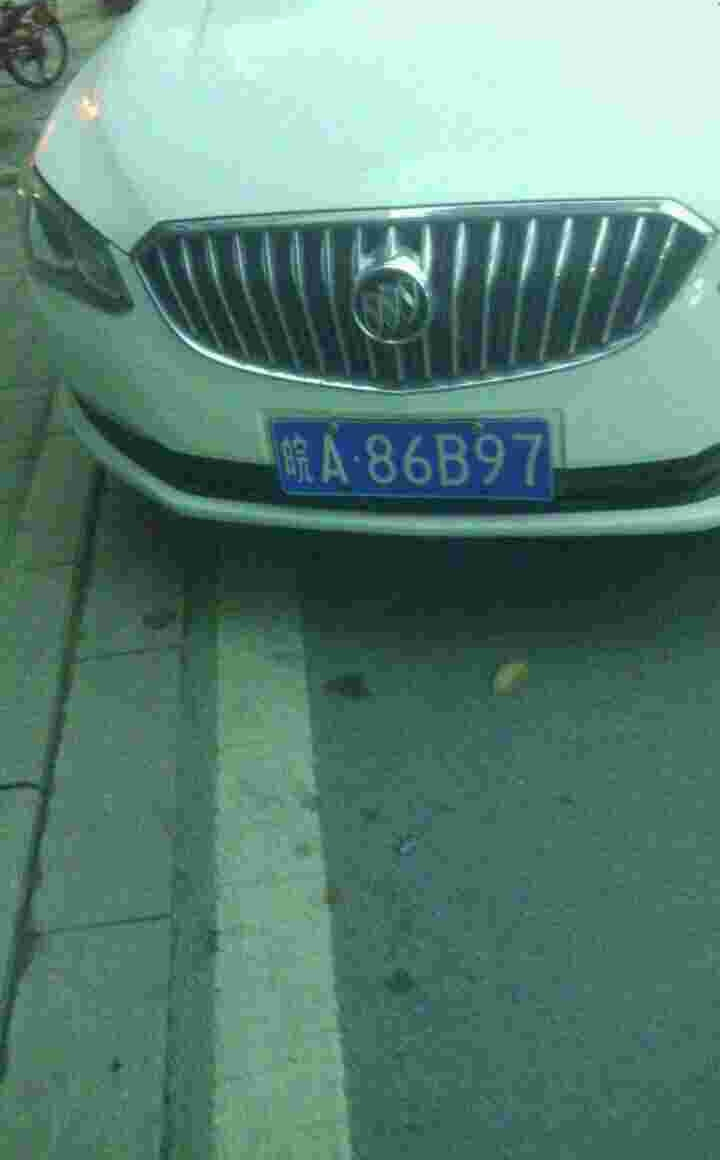license_plate: (255, 414, 568, 505)
